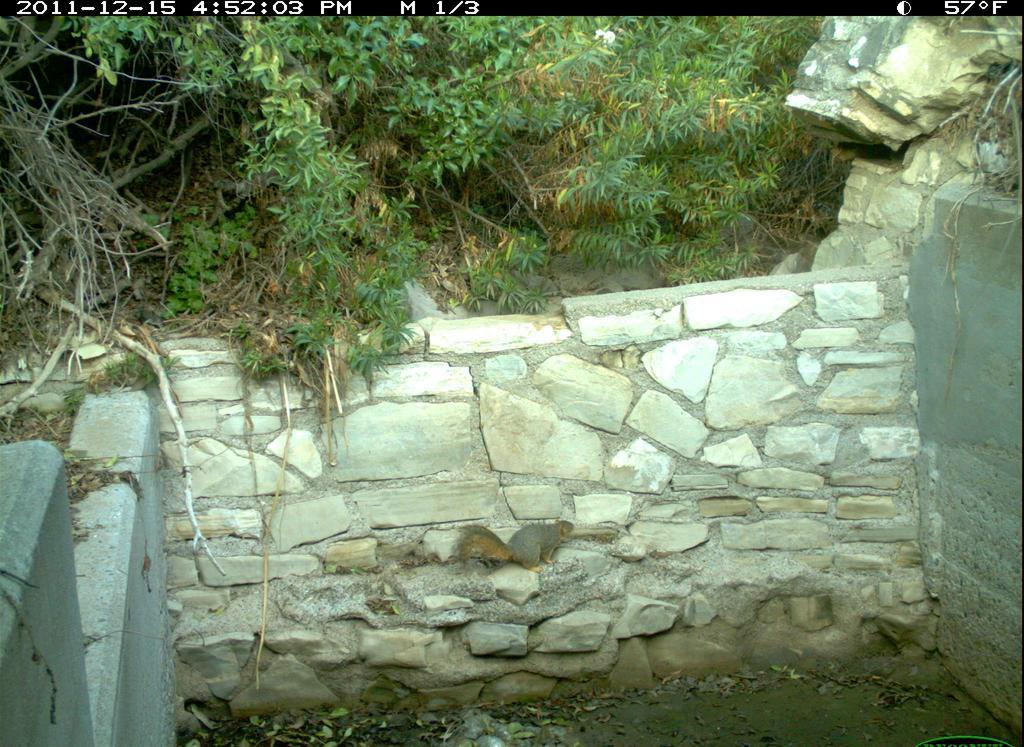squirrel: (454, 514, 585, 575)
